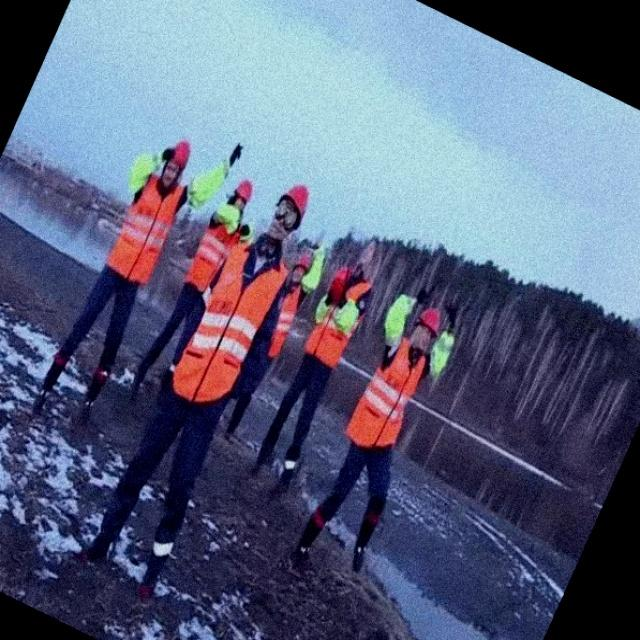Colete: (173, 245, 286, 402), (106, 174, 185, 284), (346, 338, 425, 447), (184, 223, 239, 291), (305, 305, 358, 367), (268, 285, 300, 358)
Pessoa: (80, 185, 308, 598), (32, 140, 241, 420), (292, 308, 440, 571), (254, 242, 375, 486), (131, 180, 252, 396), (225, 245, 325, 438)
